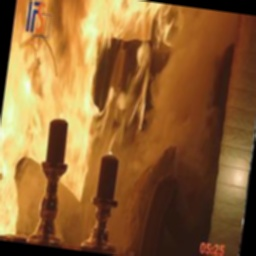fire: (0, 0, 137, 249)
